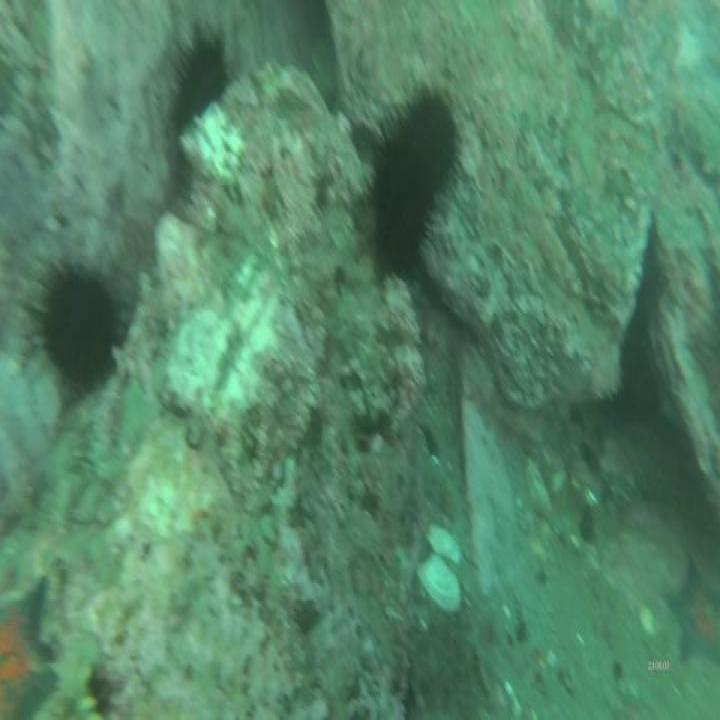echinus: (35, 249, 124, 402), (363, 133, 442, 288), (166, 14, 233, 160), (400, 78, 460, 194)
scallop: (417, 516, 469, 622)
starfish: (0, 570, 65, 720), (662, 544, 720, 672)
